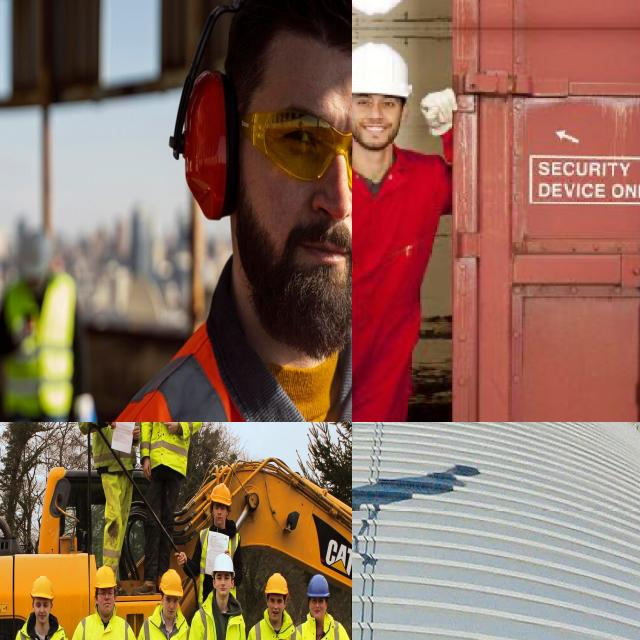Ear-protection: (168, 63, 238, 223)
No_Ear-Protection: (402, 102, 408, 120)
No_Glasses: (352, 94, 402, 109)
face_nomask: (352, 107, 401, 150), (263, 594, 289, 626), (30, 598, 57, 626), (211, 569, 235, 597), (95, 589, 116, 620), (306, 597, 329, 621), (158, 594, 182, 614)
glasses: (238, 101, 352, 194), (99, 590, 115, 600)
hand_glove: (421, 88, 457, 136)
hand_noglove: (166, 422, 182, 449), (100, 422, 117, 436)
head_helmet: (352, 42, 407, 98), (158, 569, 183, 597), (211, 552, 235, 581), (264, 572, 290, 598), (30, 575, 54, 600), (94, 564, 117, 590), (307, 574, 330, 598), (209, 483, 232, 507)
person: (53, 0, 352, 422), (134, 422, 201, 595), (80, 422, 140, 579), (68, 563, 137, 640), (188, 556, 250, 640), (10, 576, 71, 640), (245, 572, 302, 640), (136, 568, 189, 640), (297, 574, 352, 640), (202, 484, 243, 571)
vest: (145, 422, 194, 473), (88, 422, 137, 471), (190, 598, 245, 640), (196, 527, 238, 577), (68, 611, 136, 640), (246, 609, 305, 640), (141, 604, 189, 640)
